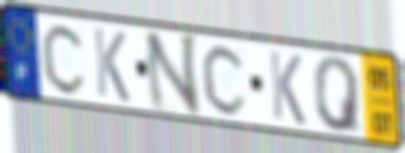C: (40, 20, 89, 98), (200, 41, 249, 119)
K: (267, 47, 308, 128), (91, 24, 132, 105)
N: (141, 31, 203, 118)
Q: (311, 55, 365, 136)
